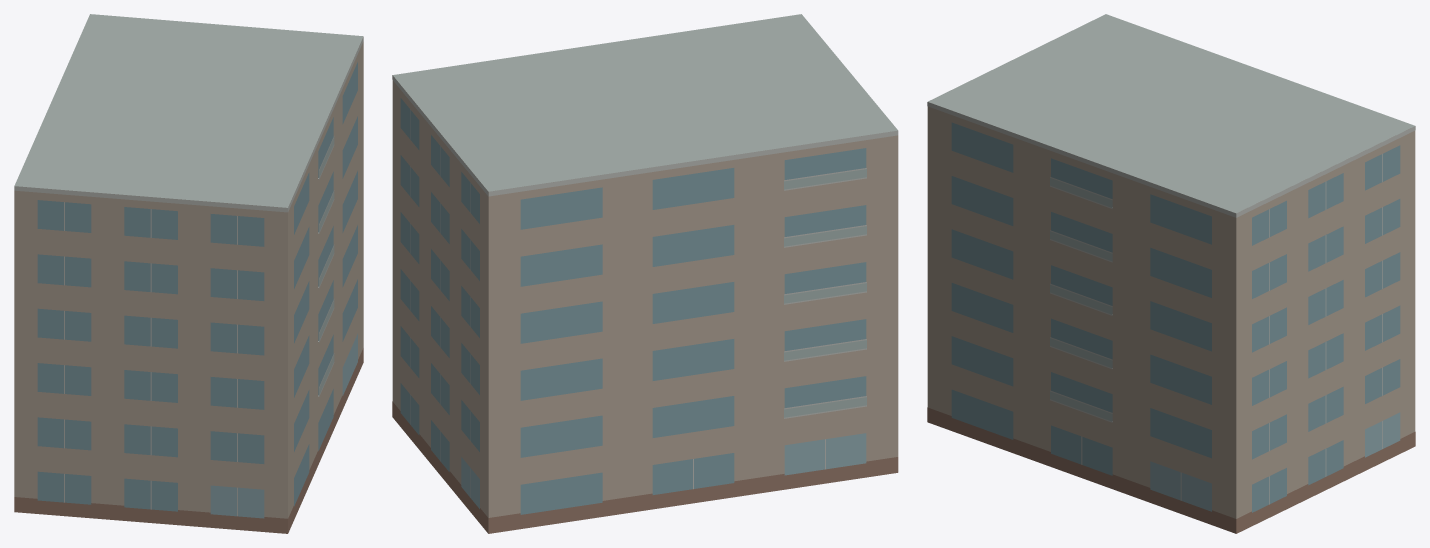
The model's file is survey-upis-33010571.glb.
The picture shows the model from 3 angles, left to right: view 1: azimuth 30°, elevation 25°; view 2: azimuth 150°, elevation 25°; view 3: azimuth 270°, elevation 25°; orthographic projection. The views are drawn at different scales.
Visible parts, largest first — view 1: survey-upis-33010571.tmp; view 2: survey-upis-33010571.tmp; view 3: survey-upis-33010571.tmp.
Boxes of the visible parts, <box> form: survey-upis-33010571.tmp: <box>14,14,363,533</box>; survey-upis-33010571.tmp: <box>392,14,898,533</box>; survey-upis-33010571.tmp: <box>927,14,1415,533</box>.
Bounding box in the file's own units: 23.36 × 17.5 × 24.16.
